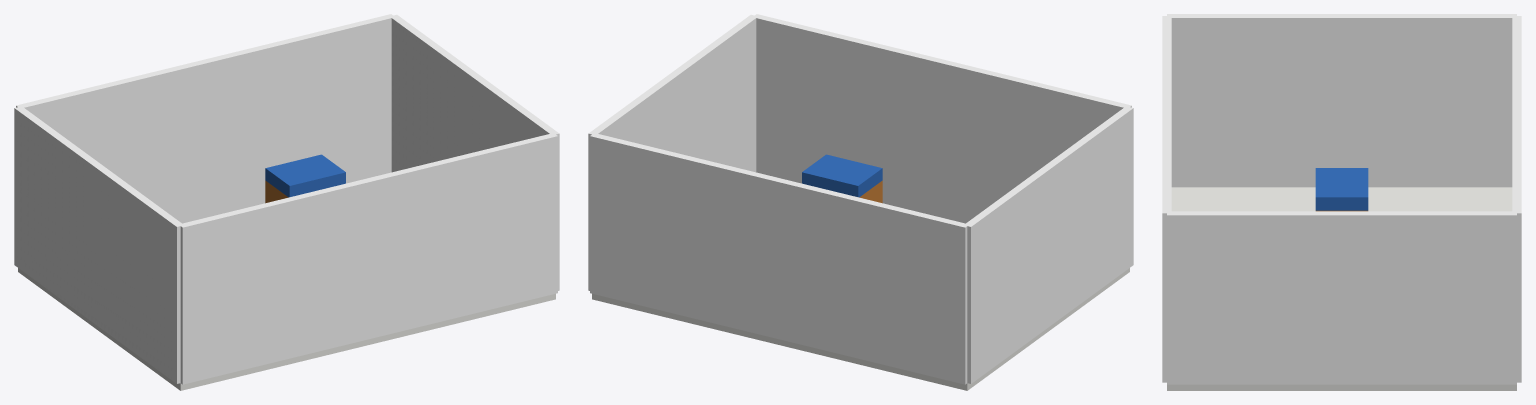
3 views of the same model, side by side, from view 1: azimuth 30°, elevation 25°; view 2: azimuth 150°, elevation 25°; view 3: azimuth 270°, elevation 25° (orthographic). The views are drawn at different scales.
Visible parts, largest first — view 1: wall-wall-c, wall-wall-a, wall-wall-d, wall-wall-b, floor-1, mesh_1; view 2: wall-wall-a, wall-wall-c, wall-wall-d, wall-wall-b, floor-1, mesh_1; view 3: wall-wall-b, wall-wall-d, floor-1, wall-wall-a, wall-wall-c, mesh_1.
Boxes of the visible parts, x1,y1,x2,y2 form: wall-wall-c: (179,134,557,384); wall-wall-a: (16,14,394,223); wall-wall-d: (14,106,183,383); wall-wall-b: (390,14,559,290); floor-1: (18,268,555,390); mesh_1: (265,154,345,197); wall-wall-a: (590,133,969,384); wall-wall-c: (753,14,1131,223); wall-wall-d: (964,106,1133,383); wall-wall-b: (588,14,757,290); floor-1: (592,268,1129,390); mesh_1: (802,154,882,197); wall-wall-b: (1167,211,1516,384); wall-wall-d: (1167,14,1516,187); floor-1: (1167,187,1516,390); wall-wall-a: (1512,16,1521,382); wall-wall-c: (1162,16,1171,382); mesh_1: (1315,168,1368,210).
Bounding box in the file's own units: 8.16 × 3.36 × 6.16.
